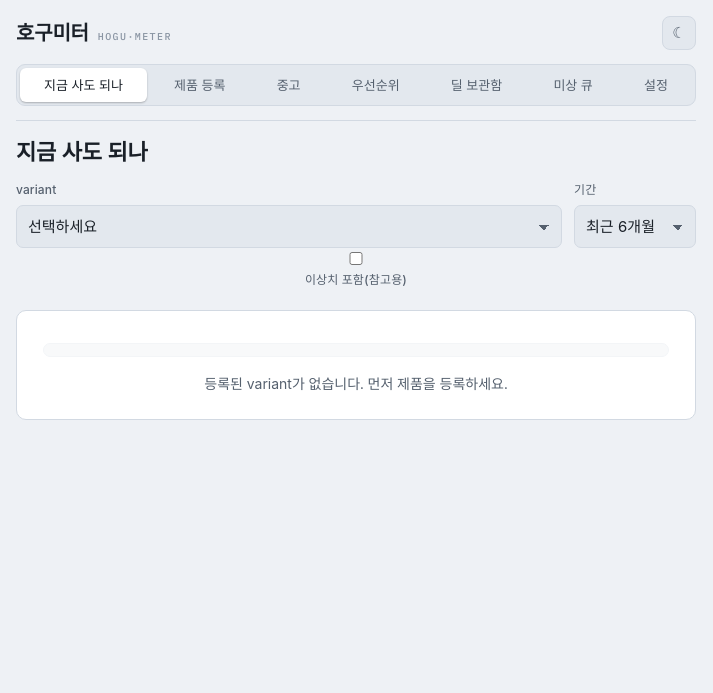
Test: App › 탭으로 등록 화면에 간다
The width and height of the screenshot is (713, 693).
Click the button "제품 등록": x=200, y=85 [150,68,250,102]
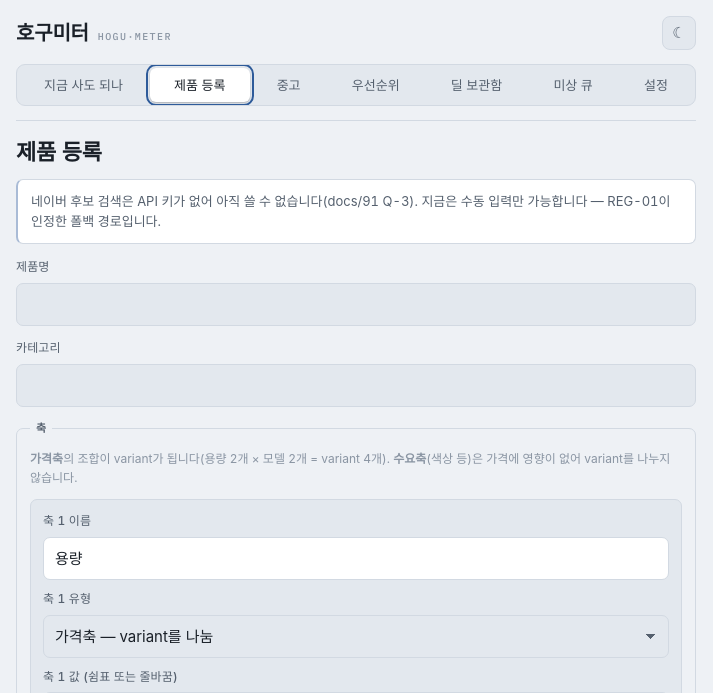
Check: the heading "제품 등록" is shown, box [16,139,102,165]
